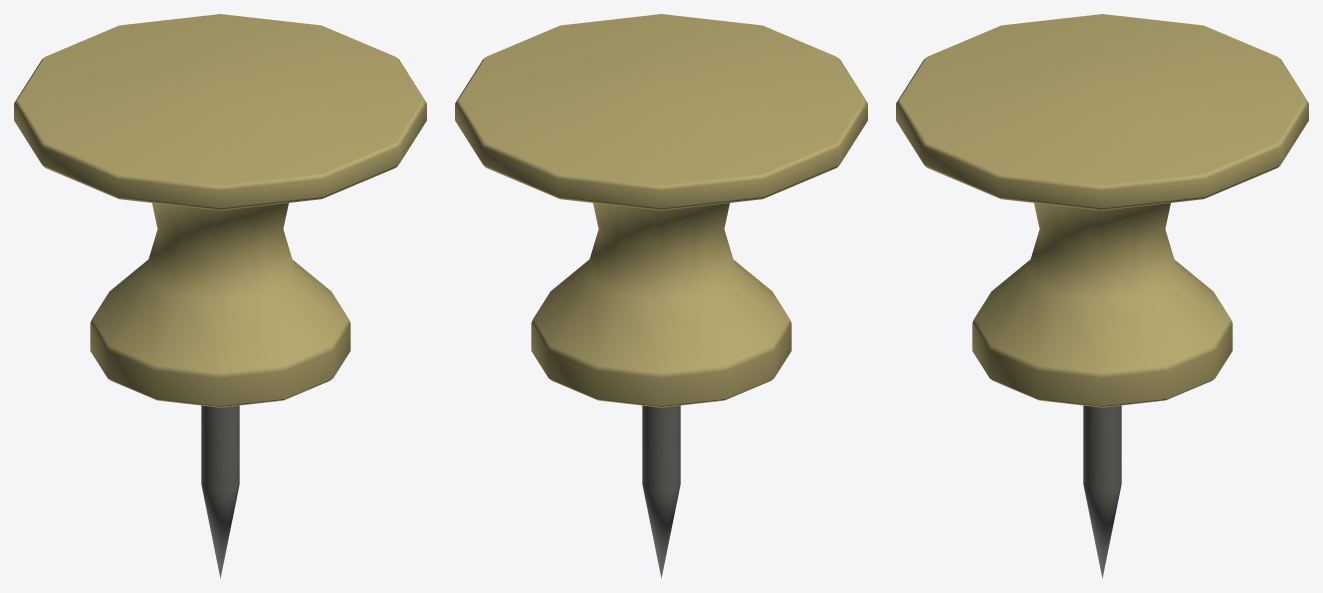
The model's file is Thumbtack_Yellow.fbx.
The picture shows the model from 3 angles, left to right: view 1: azimuth 30°, elevation 25°; view 2: azimuth 150°, elevation 25°; view 3: azimuth 270°, elevation 25°; orthographic projection.
Parts seen in each view (by area): view 1: Thumbtack_Yellow; view 2: Thumbtack_Yellow; view 3: Thumbtack_Yellow.
Boxes of the visible parts, bbox=[...] form: Thumbtack_Yellow: bbox=[14, 14, 426, 578]; Thumbtack_Yellow: bbox=[455, 14, 867, 578]; Thumbtack_Yellow: bbox=[896, 14, 1308, 578].
Size of the model in its own units: 9.2 by 12.13 by 9.2.
